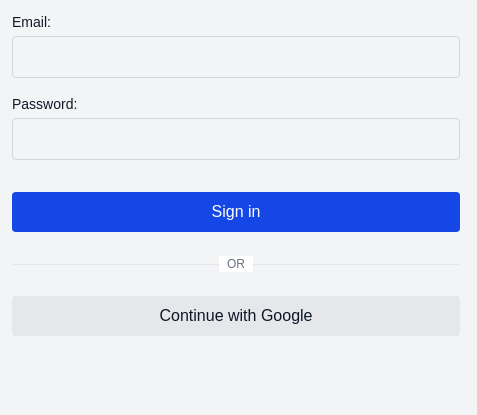
Scenario: SignInForm › Google sign-in › shows a fallback message when Google sign-in throws a non-Error value
Click the button "Continue with Google": (236, 316) [12,296,460,336]
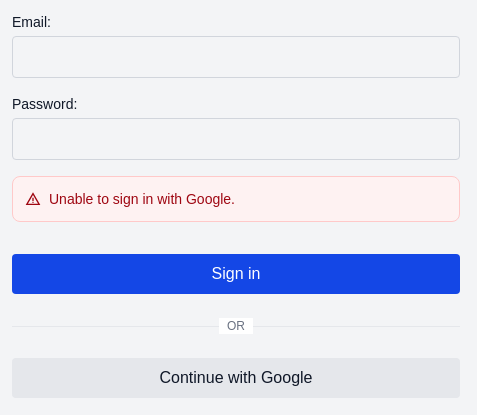
Expected: the text "Unable to sign in with Google." is shown, [25,191,235,207]
